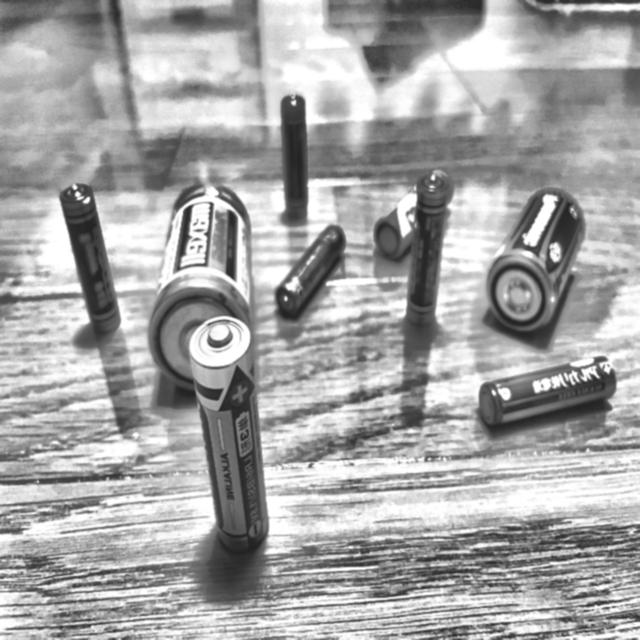drycell: (481, 178, 586, 334), (472, 354, 624, 439)
